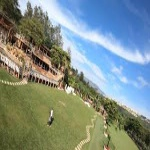House: (1, 33, 62, 80)
Uncultivated: (1, 82, 106, 150)
